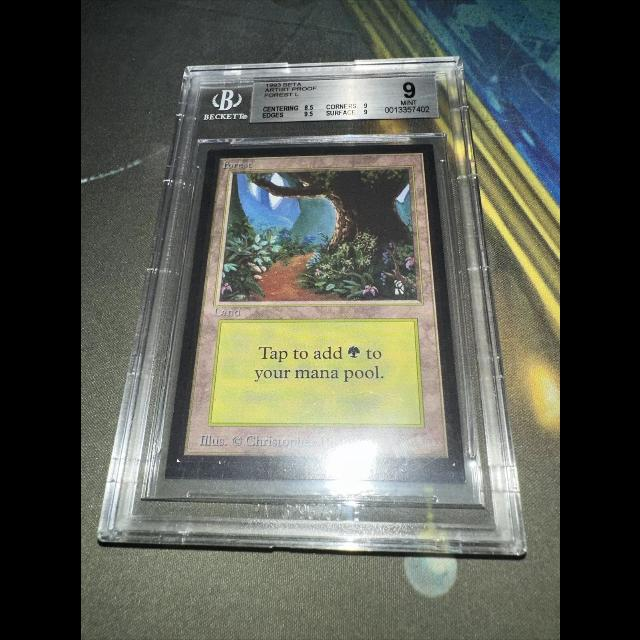bgs_label: (249, 75, 439, 123)
bgs_slab: (94, 56, 529, 558)
card: (163, 144, 465, 483)
